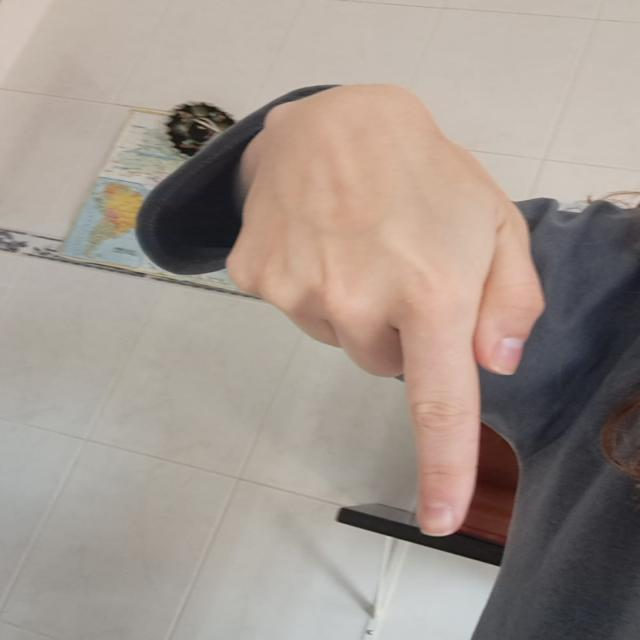Q: (213, 78, 550, 542)
